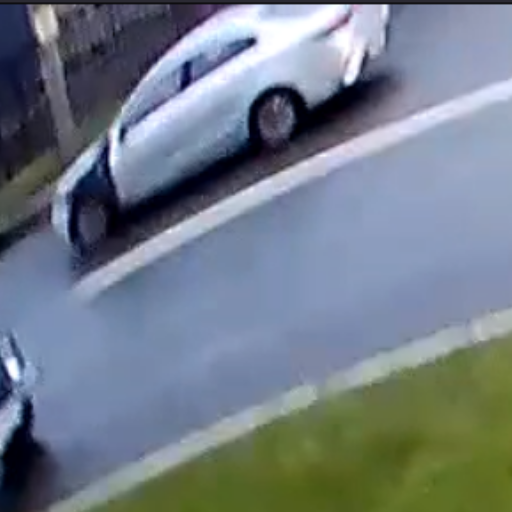Car: (38, 1, 387, 249)
